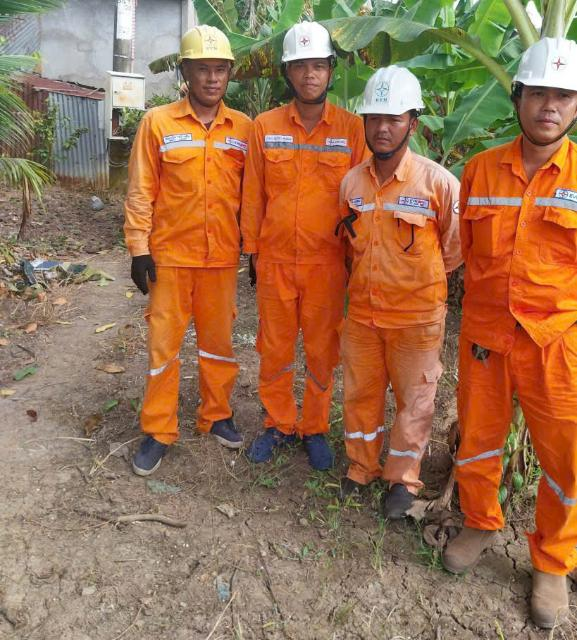gloves: (130, 243, 162, 305)
helmet: (512, 34, 577, 115), (359, 61, 439, 123), (278, 11, 339, 68), (183, 18, 236, 67)
shoes: (434, 512, 503, 587), (524, 545, 577, 631), (125, 418, 177, 480), (243, 408, 298, 460), (378, 479, 421, 535), (300, 433, 336, 479), (203, 412, 245, 449), (333, 473, 366, 514)
